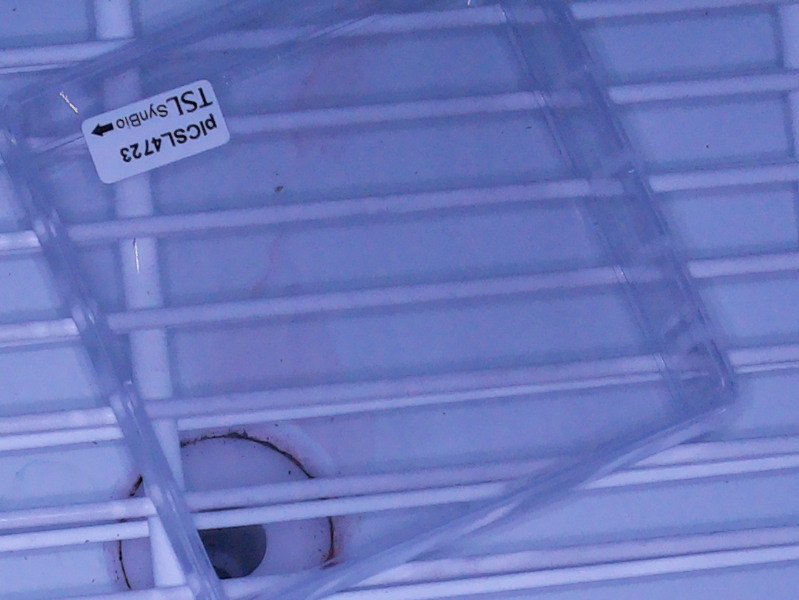plate: (1, 1, 737, 599)
